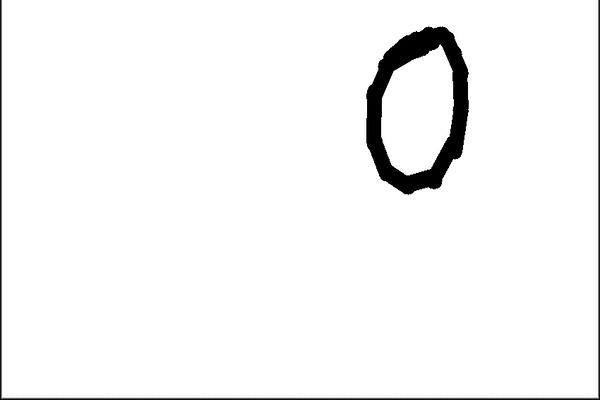O: (353, 24, 491, 209)
